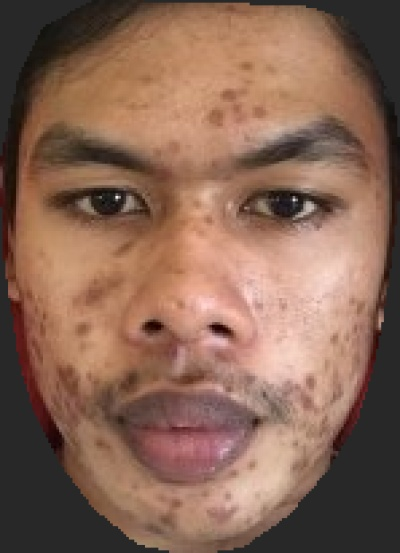jerawat: (65, 259, 127, 315), (45, 355, 90, 399), (146, 495, 190, 531), (205, 498, 240, 531), (70, 316, 97, 341), (298, 366, 322, 393), (110, 236, 136, 260), (205, 103, 225, 131), (247, 98, 270, 121), (325, 327, 346, 351), (92, 435, 112, 456), (217, 87, 239, 104), (235, 60, 256, 77), (243, 454, 260, 472)
